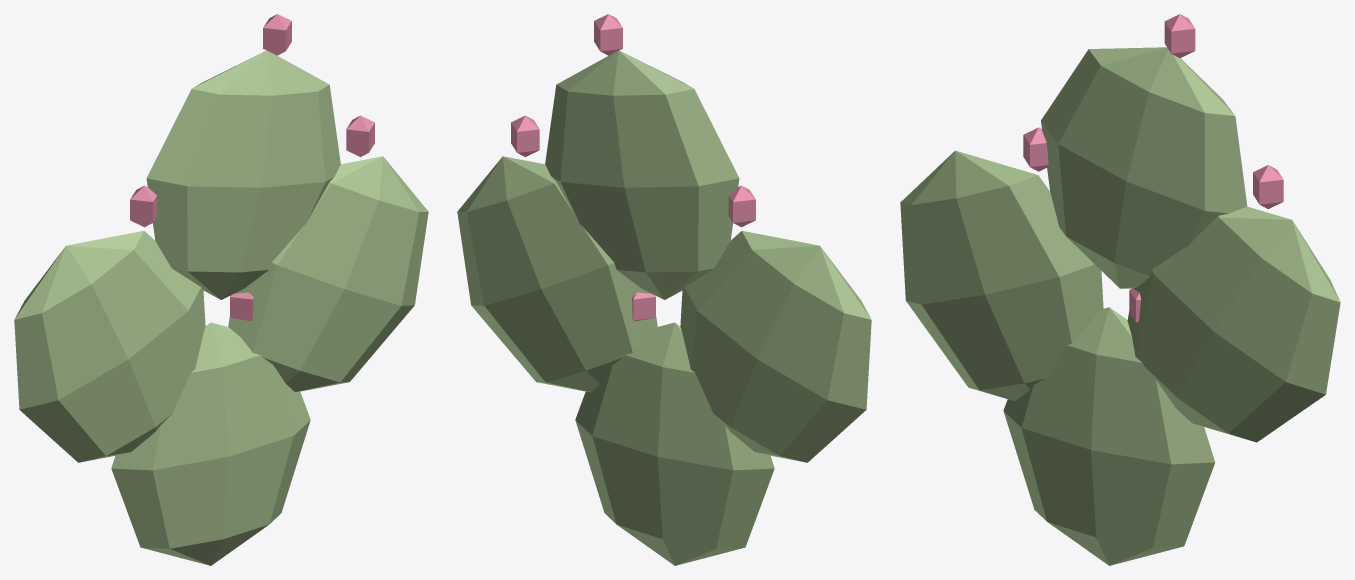
File: prickly_pear.glb
3 views of the same model, side by side, from view 1: azimuth 30°, elevation 25°; view 2: azimuth 150°, elevation 25°; view 3: azimuth 330°, elevation 25° (orthographic). The views are drawn at different scales.
Parts seen in each view (by area): view 1: prickly_pear; view 2: prickly_pear; view 3: prickly_pear.
Boxes of the visible parts, <box> form: prickly_pear: <box>14,14,428,565</box>; prickly_pear: <box>457,14,871,565</box>; prickly_pear: <box>900,14,1340,565</box>.
Size of the model in its own units: 1.25 by 1.54 by 0.18.
